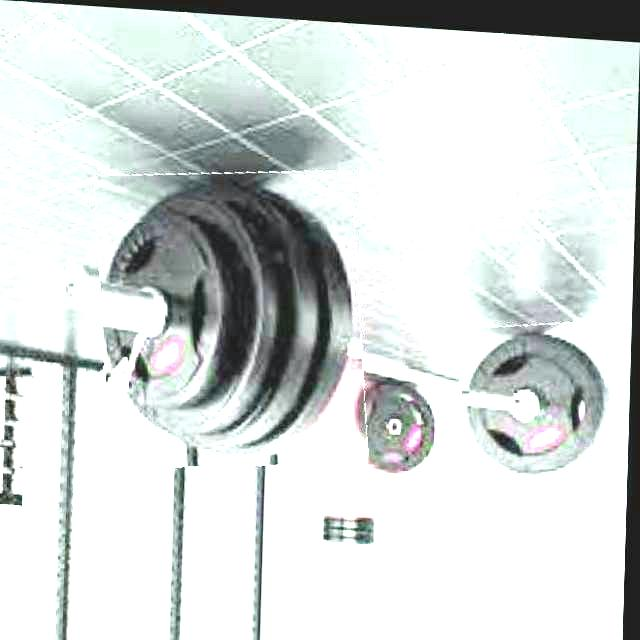barbell: (95, 158, 372, 475), (459, 308, 622, 482)
